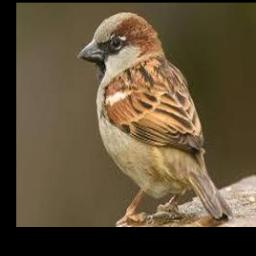Sparrow: (76, 11, 233, 224)
